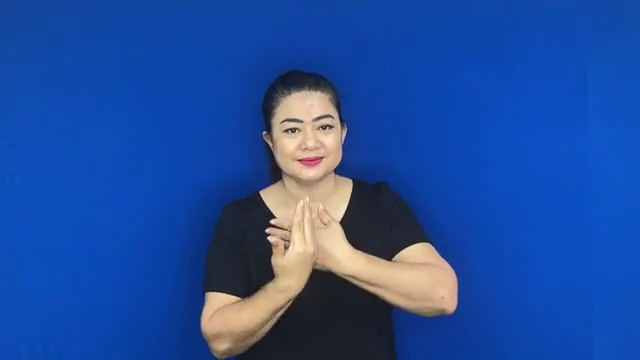bread: (252, 188, 374, 293)
